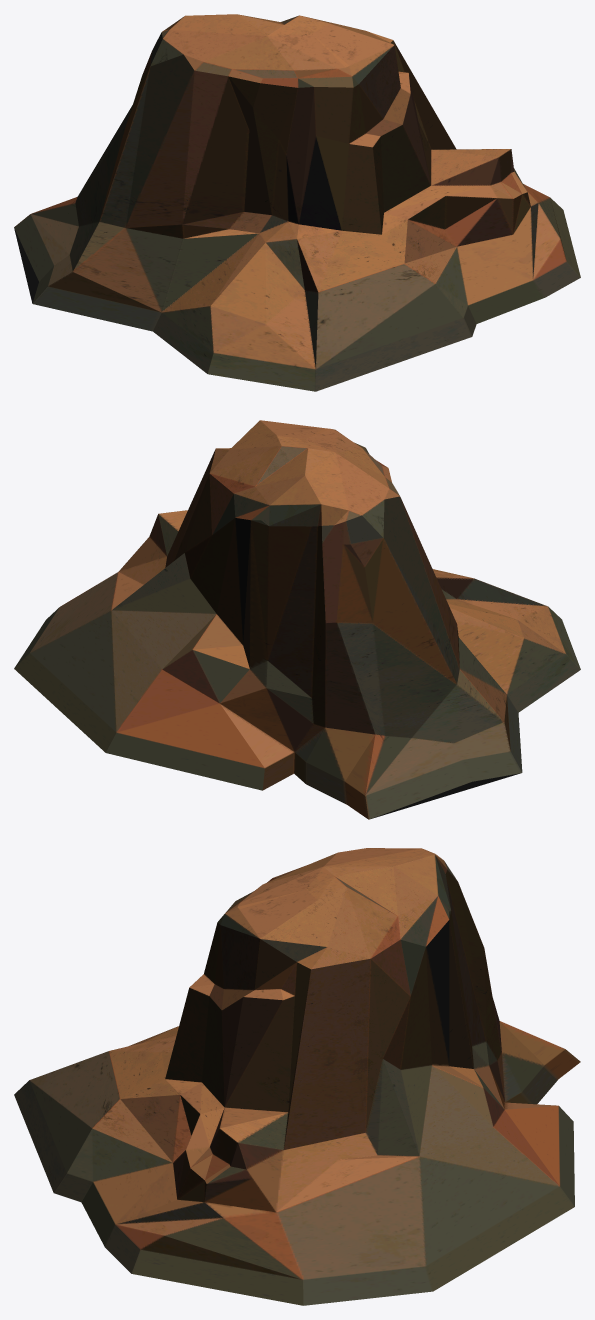
File: moutain1.fbx
3 renders of one model, top to bottom at view 1: azimuth 30°, elevation 25°; view 2: azimuth 150°, elevation 25°; view 3: azimuth 270°, elevation 25°, orthographic. The views are drawn at different scales.
Visible parts, largest first — view 1: node_id30; view 2: node_id30; view 3: node_id30.
Boxes of the visible parts, x1,y1,x2,y2 form: node_id30: [14, 14, 580, 391]; node_id30: [14, 420, 580, 819]; node_id30: [14, 848, 580, 1305].
Size of the model in its own units: 0.512 by 0.2381 by 0.4372.
Materials: 1 (1 with a texture image).
